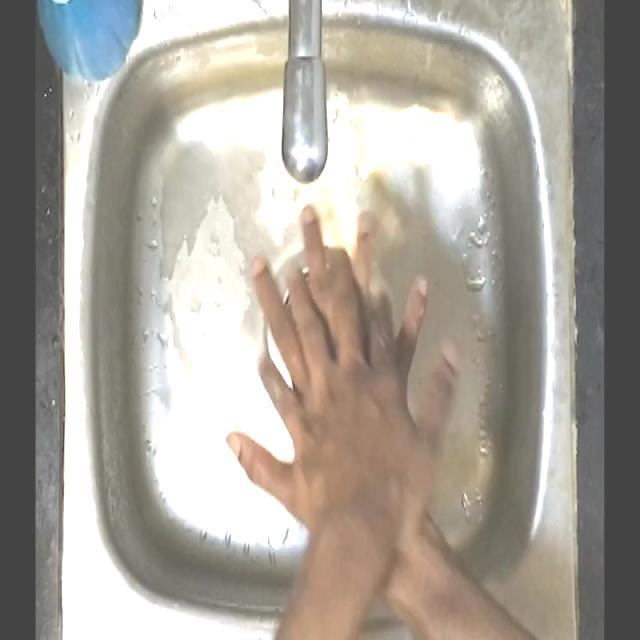step_2: (224, 196, 463, 542)
